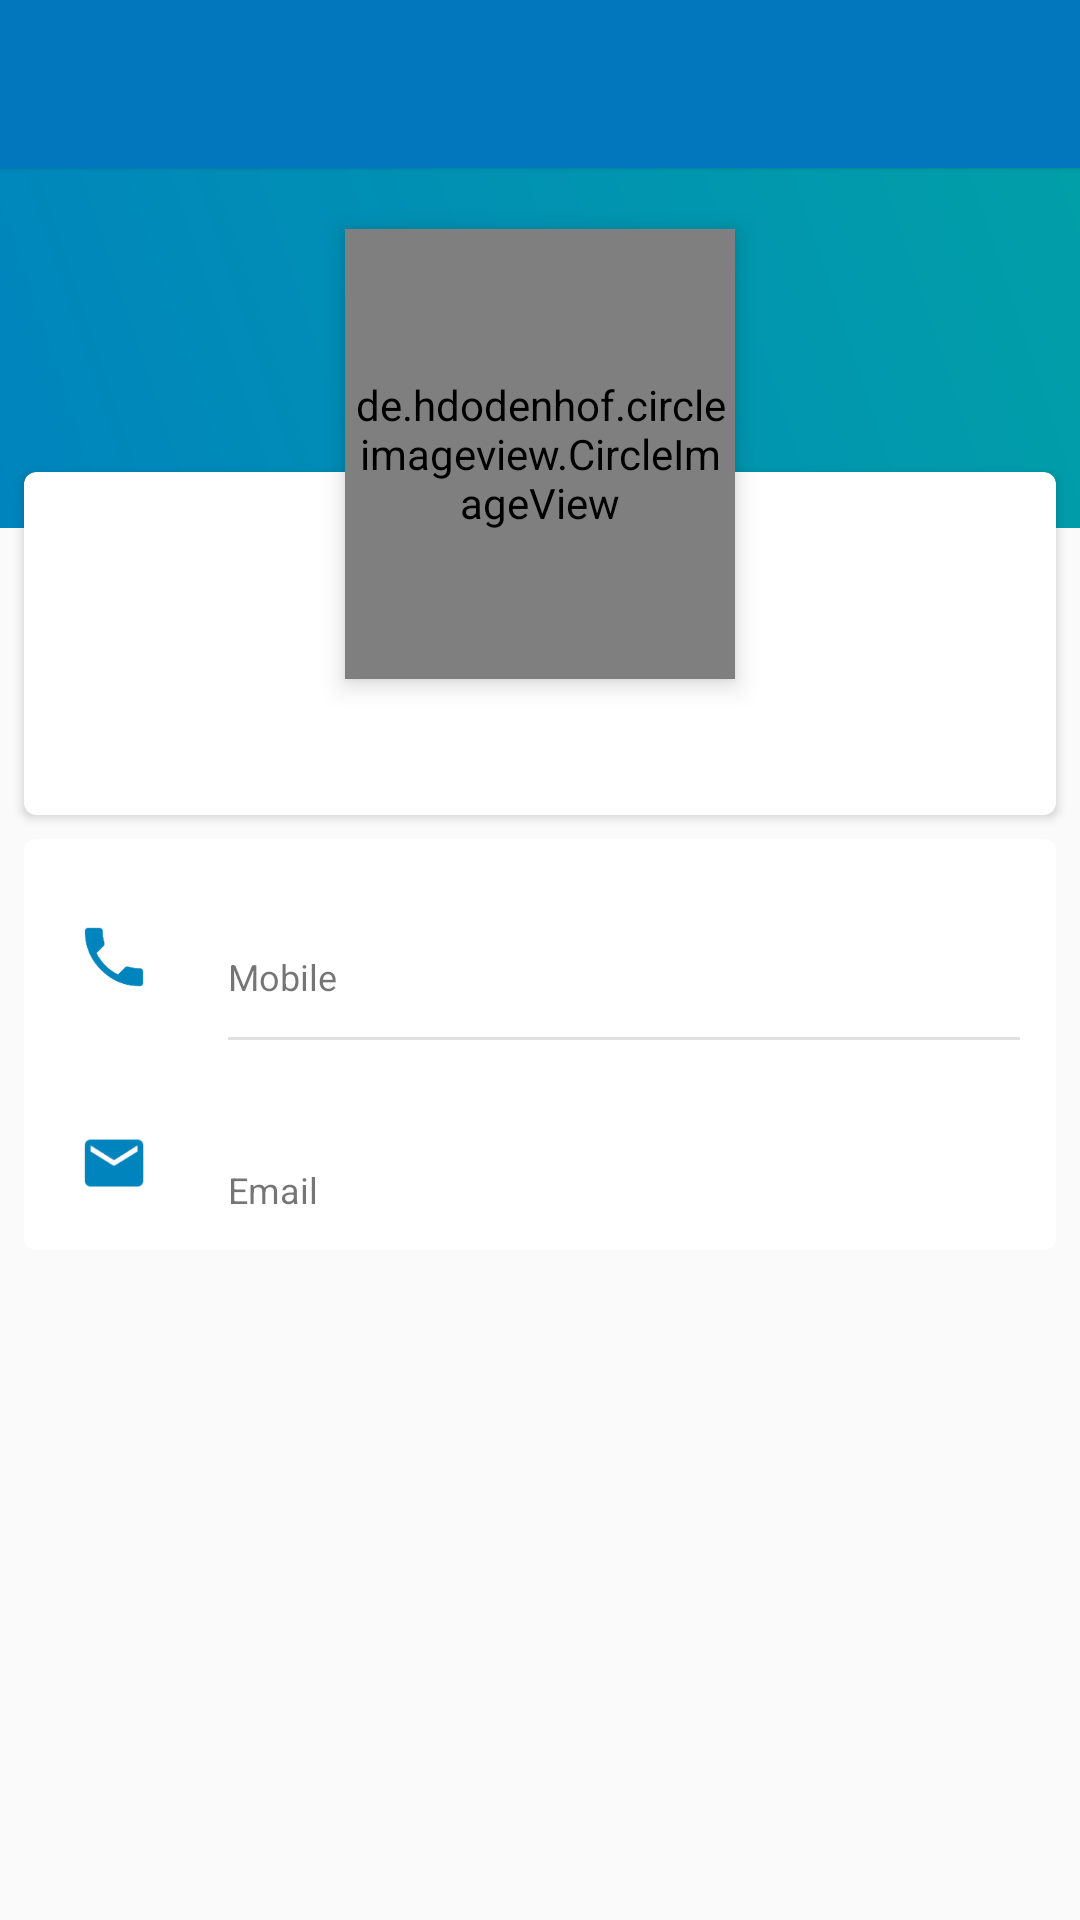

Named icons in this screenshot (1080×1920) and their bounding boxes, (x1, y1, x2, y2):
local phone user: (84, 927, 144, 987)
